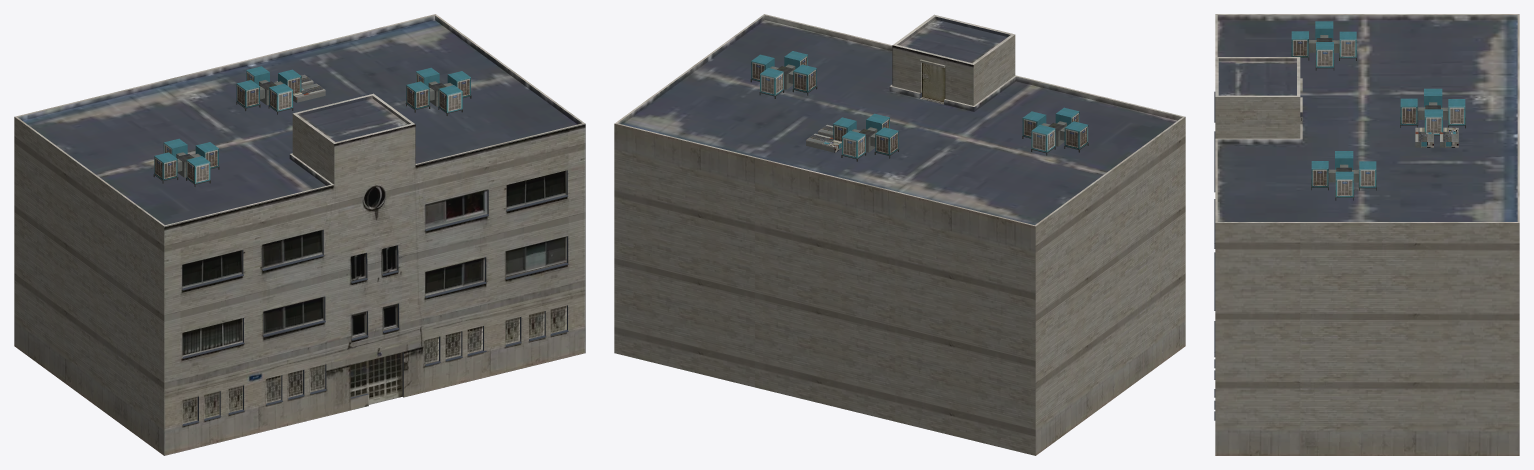
The model's file is hospital.lod0.glb.
3 renders of one model, left to right at view 1: azimuth 30°, elevation 25°; view 2: azimuth 150°, elevation 25°; view 3: azimuth 270°, elevation 25°, orthographic.
Parts seen in each view (by area): view 1: Building00_House_0, Building00_Building_Roof_Detail_0; view 2: Building00_House_0, Building00_Building_Roof_Detail_0; view 3: Building00_House_0, Building00_Building_Roof_Detail_0.
Part boxes in pixels (x1,y1,x2,y2): Building00_House_0: (14,14,585,455); Building00_Building_Roof_Detail_0: (153,66,471,186); Building00_House_0: (614,14,1185,455); Building00_Building_Roof_Detail_0: (750,51,1088,161); Building00_House_0: (1214,14,1519,455); Building00_Building_Roof_Detail_0: (1291,21,1465,200).
Size of the model in its own units: 40 by 24.53 by 24.73.
2 materials, 2 textured.
